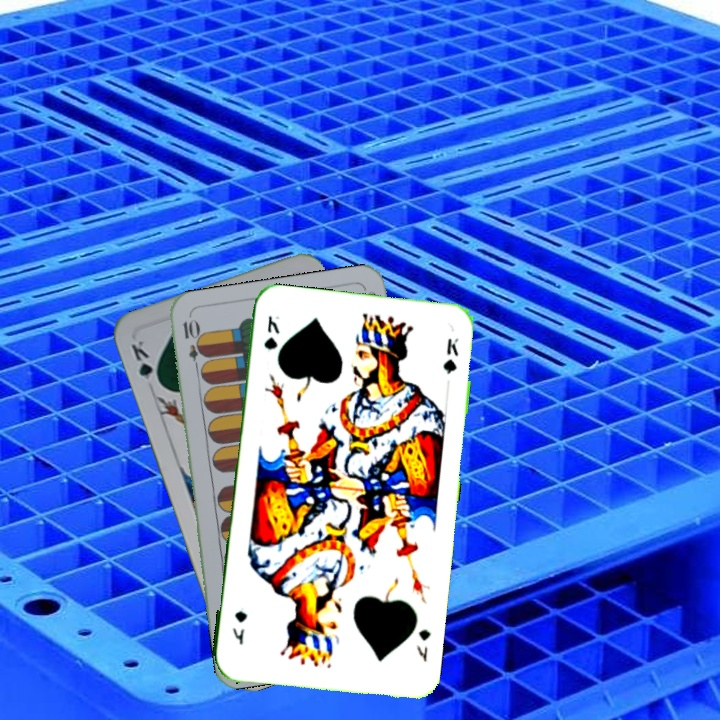E10: (178, 316, 204, 375)
GK: (127, 336, 164, 389), (260, 311, 282, 352), (412, 625, 433, 665)
